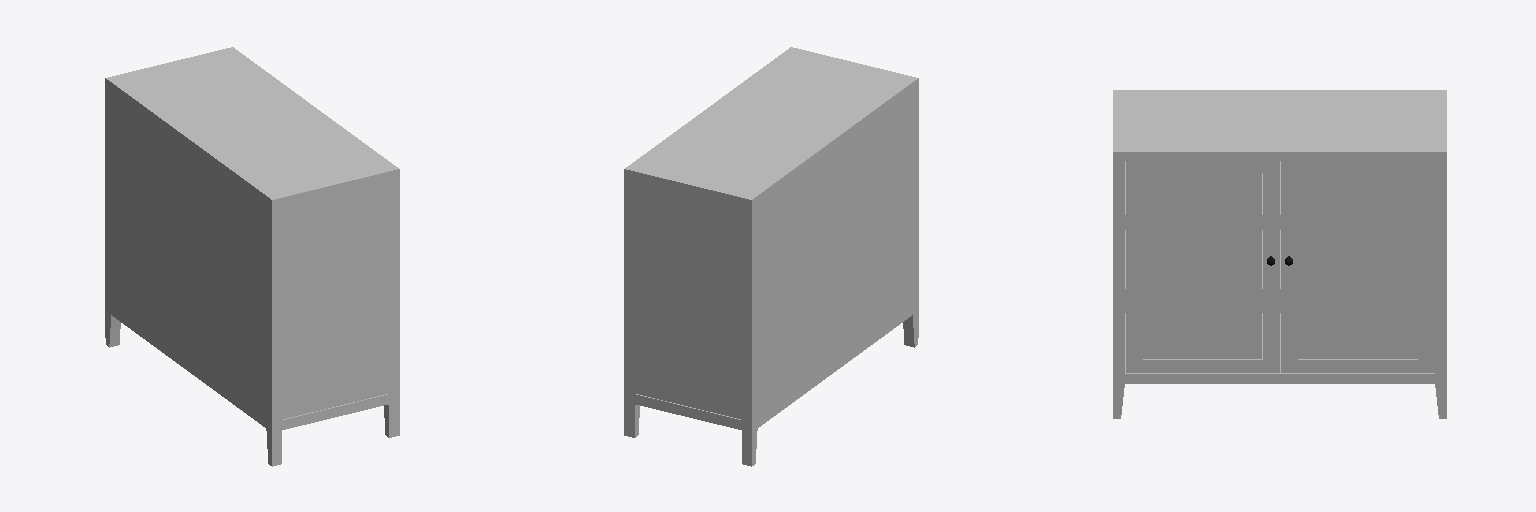
File: armoire.obj
The picture shows the model from 3 angles: view 1: azimuth 30°, elevation 25°; view 2: azimuth 150°, elevation 25°; view 3: azimuth 270°, elevation 25°; orthographic projection.
Visible parts, largest first — view 1: Cube.002; view 2: Cube.002; view 3: Cube.002, Cube.003_Cube.004, Sphere.002_Sphere.003, Cube.005_Cube.006, Cube.011_Cube.013.
Boxes of the visible parts, x1=… form: Cube.002: x1=105, y1=47, x2=399, y2=466; Cube.002: x1=624, y1=47, x2=918, y2=466; Cube.002: x1=1113, y1=90, x2=1446, y2=418; Cube.003_Cube.004: x1=1298, y1=173, x2=1417, y2=358; Sphere.002_Sphere.003: x1=1143, y1=173, x2=1261, y2=358; Cube.005_Cube.006: x1=1126, y1=161, x2=1279, y2=372; Cube.011_Cube.013: x1=1281, y1=161, x2=1434, y2=372.
Size of the model in its own units: 0.8225 by 1.56 by 1.77.